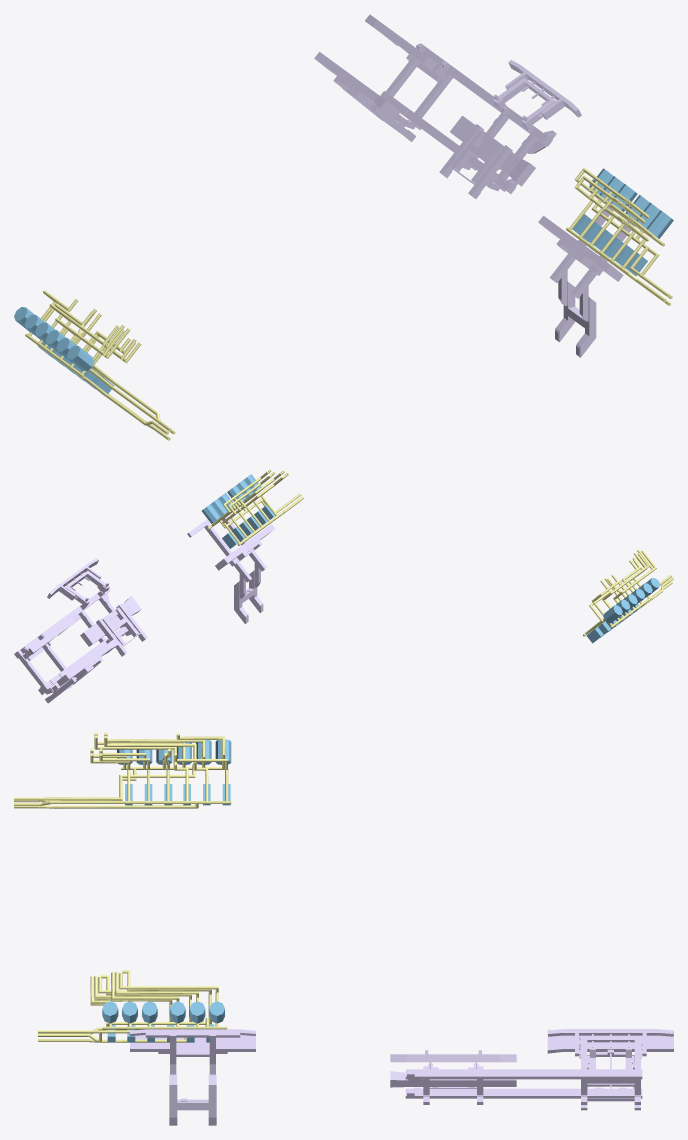
File: Endcap-Calo-Services-cut1.glb
3 views of the same model, one above another, from view 1: azimuth 30°, elevation 25°; view 2: azimuth 150°, elevation 25°; view 3: azimuth 270°, elevation 25° (orthographic). The views are drawn at different scales.
Parts seen in each view (by area): view 1: _000002AC08615070_IndexedFaceSet, _000002AC086151C0_IndexedFaceSet, _000002AC30A909F0_IndexedFaceSet; view 2: _000002AC08615070_IndexedFaceSet, _000002AC086151C0_IndexedFaceSet, _000002AC30A909F0_IndexedFaceSet; view 3: _000002AC08615070_IndexedFaceSet, _000002AC086151C0_IndexedFaceSet, _000002AC30A909F0_IndexedFaceSet.
Part boxes in pixels (box(x1,y1,x2,y2)): _000002AC08615070_IndexedFaceSet: box(314, 14, 634, 357); _000002AC086151C0_IndexedFaceSet: box(25, 168, 672, 440); _000002AC30A909F0_IndexedFaceSet: box(14, 168, 673, 395); _000002AC08615070_IndexedFaceSet: box(14, 500, 274, 703); _000002AC086151C0_IndexedFaceSet: box(207, 469, 673, 636); _000002AC30A909F0_IndexedFaceSet: box(202, 474, 660, 643); _000002AC08615070_IndexedFaceSet: box(130, 1029, 673, 1125); _000002AC086151C0_IndexedFaceSet: box(14, 732, 231, 1042); _000002AC30A909F0_IndexedFaceSet: box(102, 739, 231, 1042).
Size of the model in its own units: 8.97 by 2.33 by 8.36.
